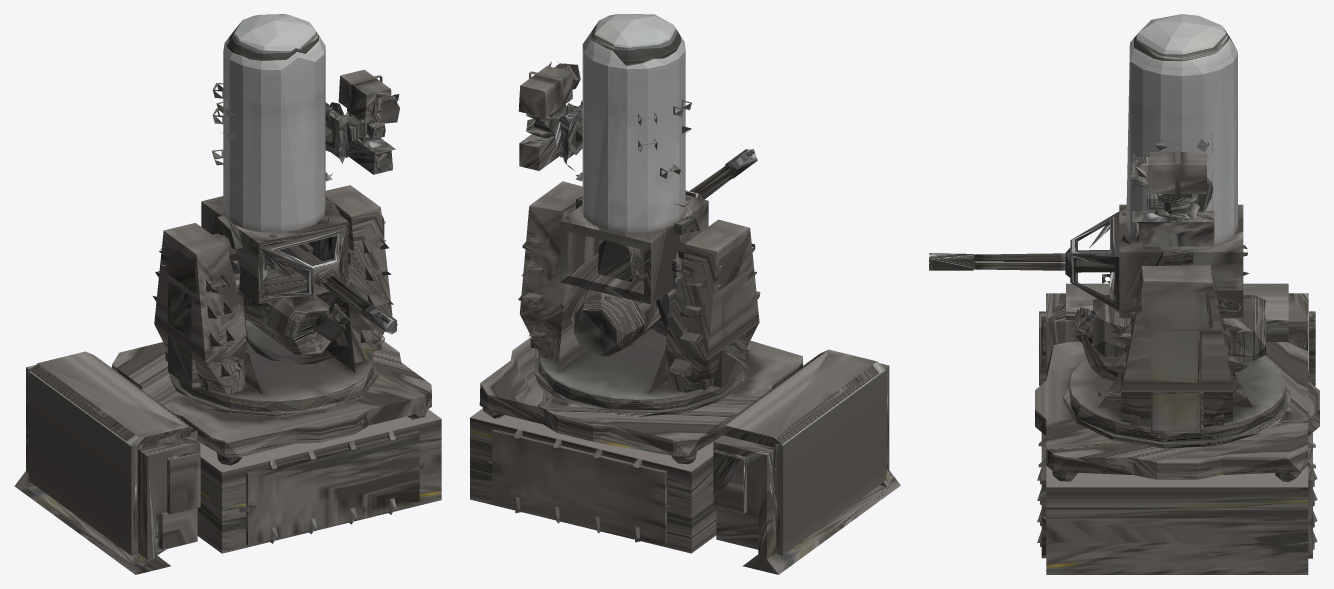
3 renders of one model, left to right at view 1: azimuth 30°, elevation 25°; view 2: azimuth 150°, elevation 25°; view 3: azimuth 270°, elevation 25°, orthographic. The views are drawn at different scales.
Parts seen in each view (by area): view 1: Object_2; view 2: Object_2; view 3: Object_2.
Boxes of the visible parts, <box> form: Object_2: <box>14,14,441,574</box>; Object_2: <box>470,14,900,574</box>; Object_2: <box>929,14,1319,574</box>.
Bounding box in the file's own units: 177 × 246 × 175.
1 material, 1 textured.
